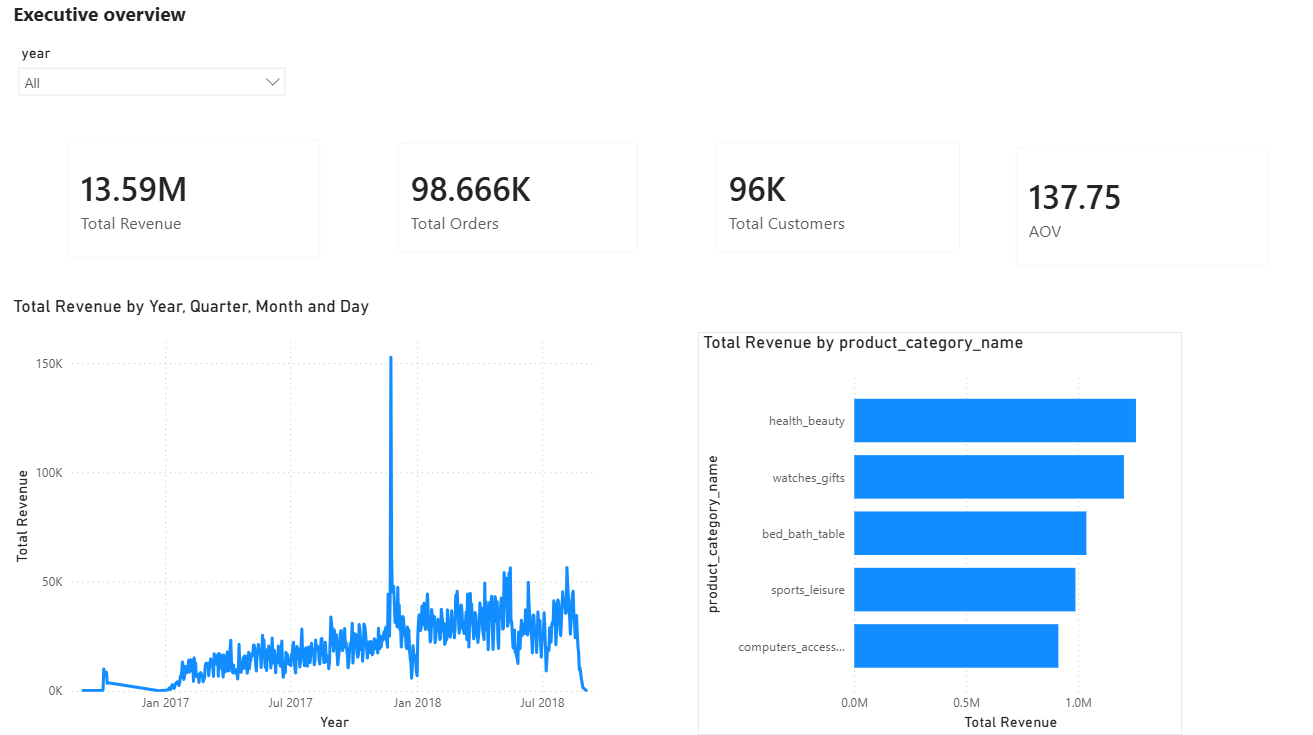

The dashboard page shown, as its layout file describes it:
{"tool":"powerbi","page":{"name":"Executive Overview","canvas":[1280,720],"ordinal":0},"visuals":[{"type":"textbox","box":[9.7,0,280.1,42.8],"z":0},{"type":"slicer","fields":{"Values":["public dim_date.year"]},"box":[9.7,42.8,280.1,69.1],"z":1000},{"type":"cardVisual","fields":{"Data":["public fact_orders.Total Revenue"]},"box":[50.6,122.6,280,150],"z":2000},{"type":"cardVisual","fields":{"Data":["public fact_orders.Total Orders"]},"box":[371.6,126.4,268.4,141],"z":3000},{"type":"cardVisual","fields":{"Data":["public fact_orders.AOV"]},"box":[972.6,130.3,280,150],"z":4000},{"type":"cardVisual","fields":{"Data":["public fact_orders.Total Cusomters"]},"box":[680.9,126.4,272.3,141],"z":5000},{"type":"lineChart","fields":{"Y":["public fact_orders.Total Revenue"],"Category":["public dim_date.full_date.Variation.Date Hierarchy.Year","public dim_date.full_date.Variation.Date Hierarchy.Quarter","public dim_date.full_date.Variation.Date Hierarchy.Month","public dim_date.full_date.Variation.Date Hierarchy.Day"]},"box":[9.7,292.8,589.4,427],"z":6000},{"type":"clusteredBarChart","fields":{"Category":["public dim_product.product_category_name"],"Y":["public fact_orders.Total Revenue"]},"box":[680.9,327.8,470.8,392],"z":7000}]}

Visuals, with their boxes in screenshot pixels (x1, y1, x2, y2), scaled from the page's 1280x720 canvas onto the 1313x735 screenshot:
textbox: x1=10 y1=0 x2=297 y2=44
slicer - public dim_date.year: x1=10 y1=44 x2=297 y2=114
cardVisual - public fact_orders.Total Revenue: x1=52 y1=125 x2=339 y2=278
cardVisual - public fact_orders.Total Orders: x1=381 y1=129 x2=656 y2=273
cardVisual - public fact_orders.AOV: x1=998 y1=133 x2=1285 y2=286
cardVisual - public fact_orders.Total Cusomters: x1=698 y1=129 x2=978 y2=273
lineChart - public fact_orders.Total Revenue x public dim_date.full_date.Variation.Date Hierarchy.Year: x1=10 y1=299 x2=615 y2=734
clusteredBarChart - public dim_product.product_category_name x public fact_orders.Total Revenue: x1=698 y1=335 x2=1181 y2=734
